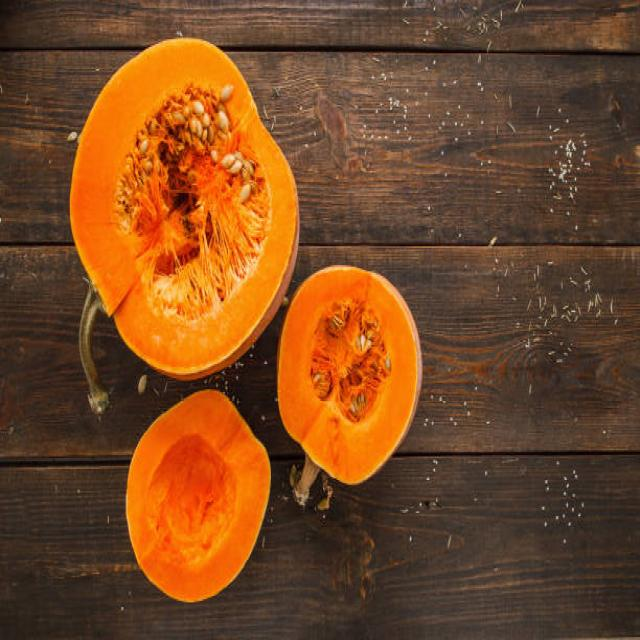Pumpkin: (68, 36, 289, 379), (126, 386, 272, 609), (279, 263, 425, 479)
